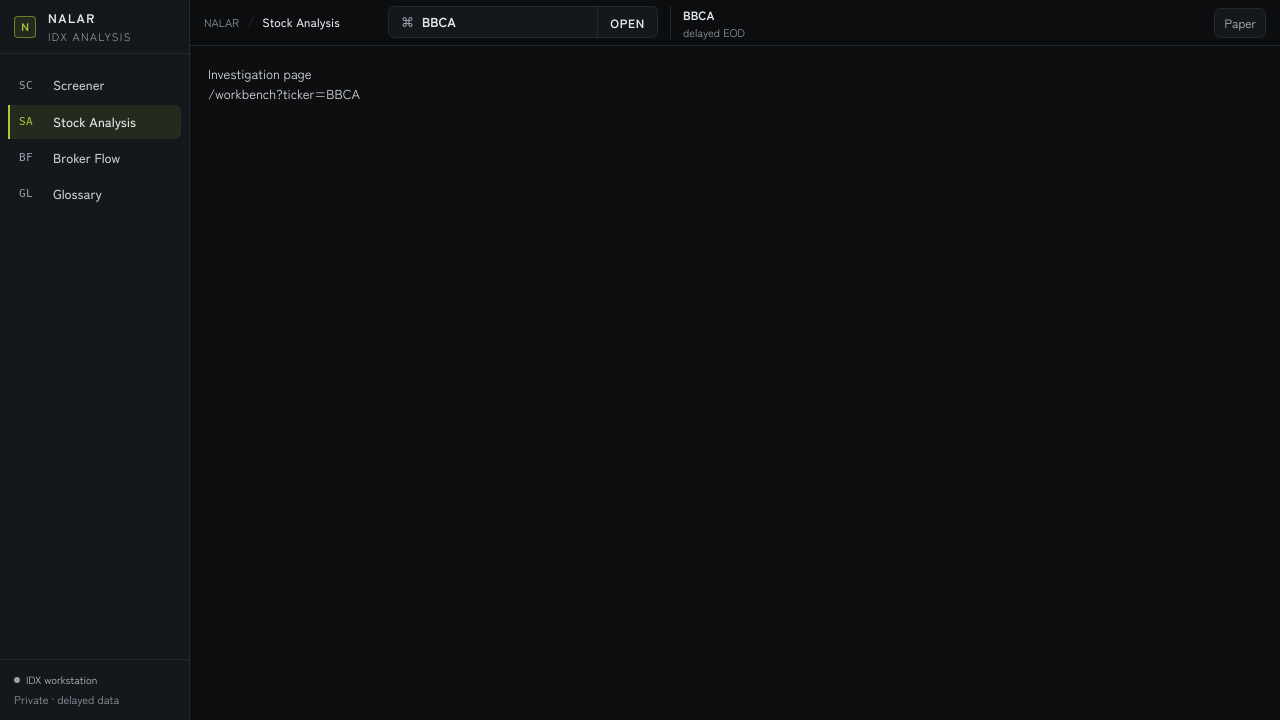
Test: AnalysisShell › opens a ticker from the global command bar and preserves it as context
Replace the text in the field named "Open ticker investigation" with "tlkm" at (506, 22), box 414,12 -> 597,32
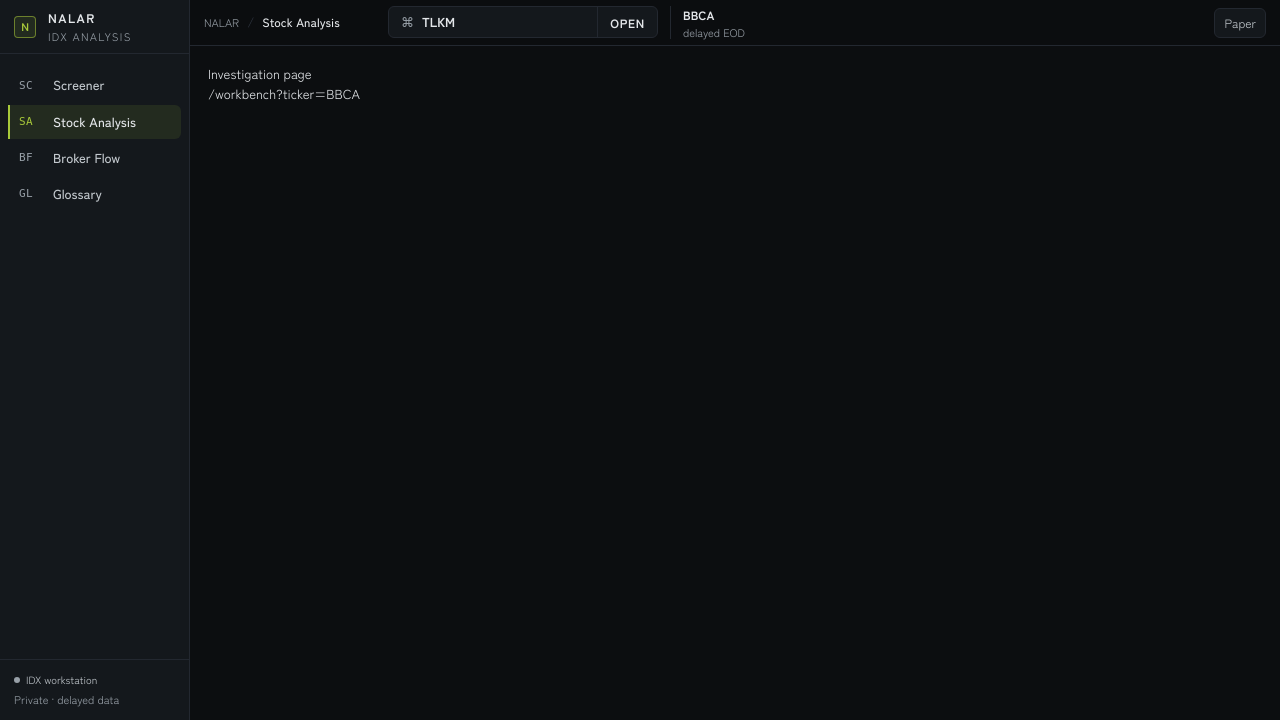
Click the button "OPEN" at (627, 22), box 597,8 -> 657,38
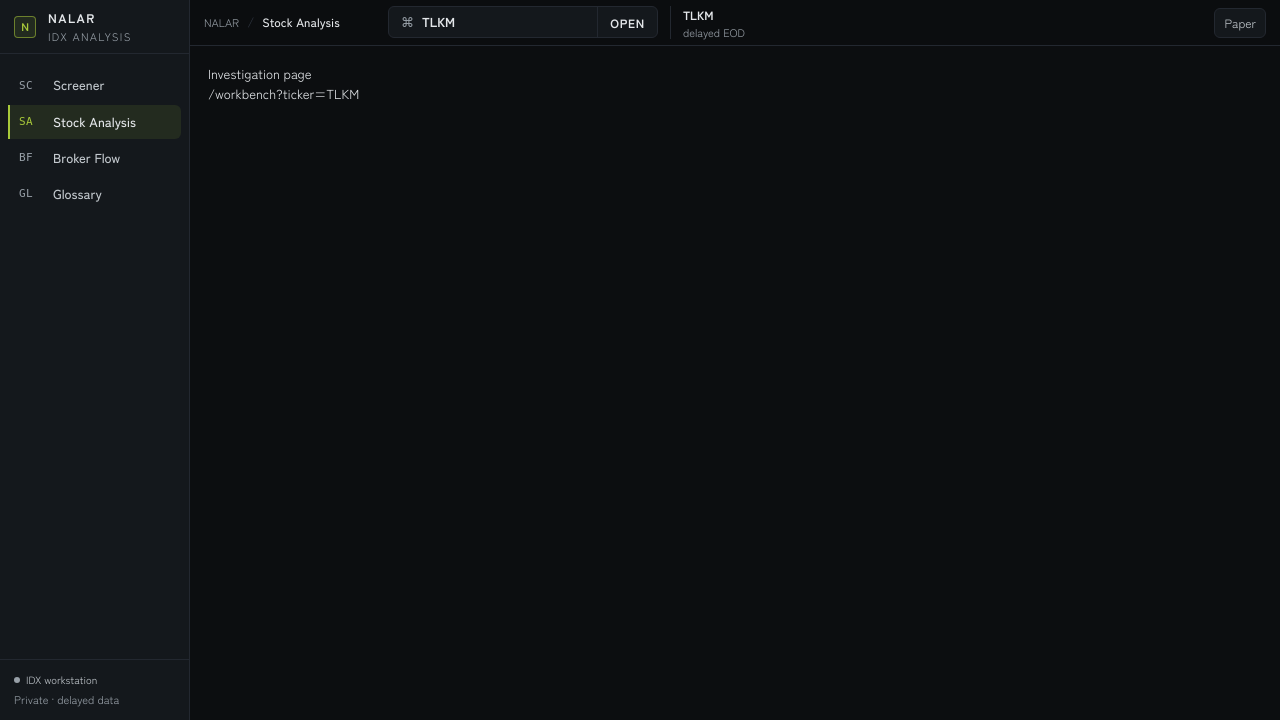
Check: the text named "location" reads "/workbench?ticker=TLKM", box 208,84 -> 359,103
Check: the text "TLKM" is shown, box 683,6 -> 714,23
